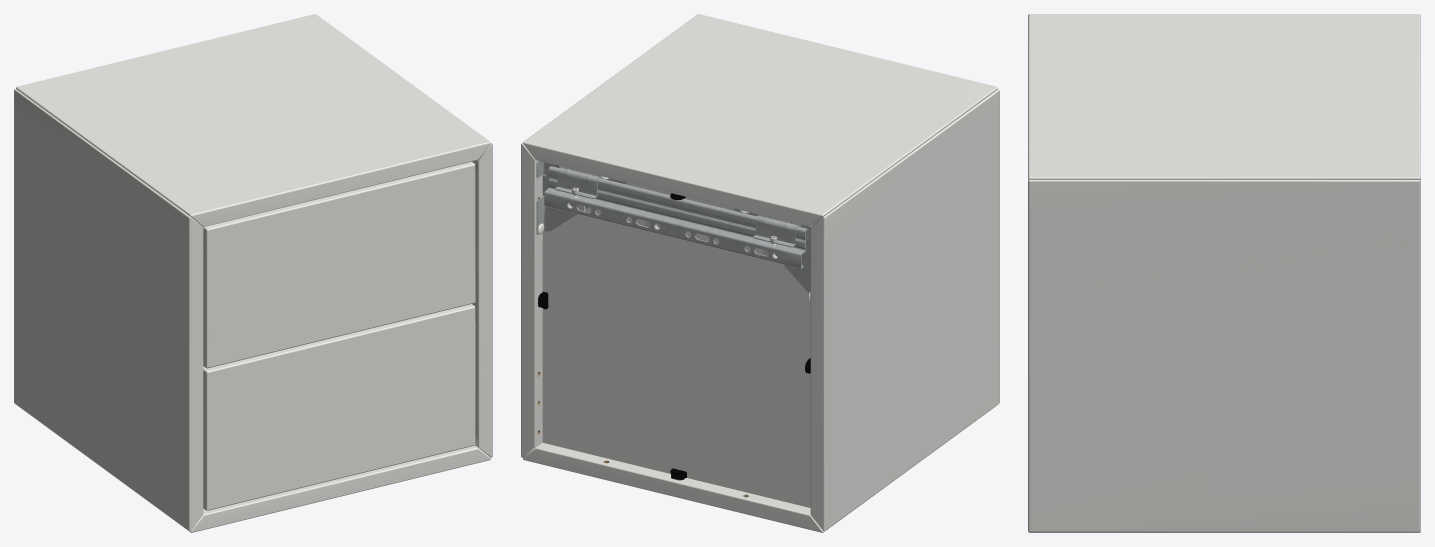
The model's file is eket_szafka_scienna_z_2_szufladami_69329387.glb.
3 views of the same model, side by side, from view 1: azimuth 30°, elevation 25°; view 2: azimuth 150°, elevation 25°; view 3: azimuth 270°, elevation 25° (orthographic). The views are drawn at different scales.
Parts seen in each view (by area): view 1: eket_szafka_scienna_z_2_szufladami_69329387; view 2: eket_szafka_scienna_z_2_szufladami_69329387; view 3: eket_szafka_scienna_z_2_szufladami_69329387.
Boxes of the visible parts, <box> form: eket_szafka_scienna_z_2_szufladami_69329387: <box>14,14,492,532</box>; eket_szafka_scienna_z_2_szufladami_69329387: <box>521,14,999,532</box>; eket_szafka_scienna_z_2_szufladami_69329387: <box>1028,14,1420,532</box>.
Size of the model in its own units: 0.35 by 0.35 by 0.35.
1 material, 1 textured.
